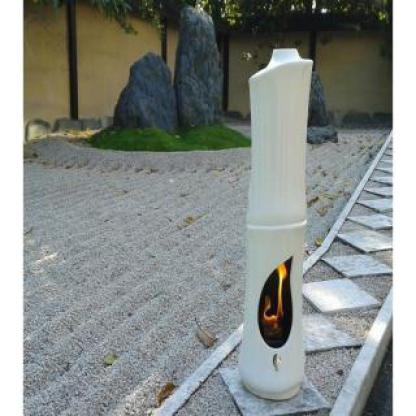fire: (260, 266, 292, 344)
